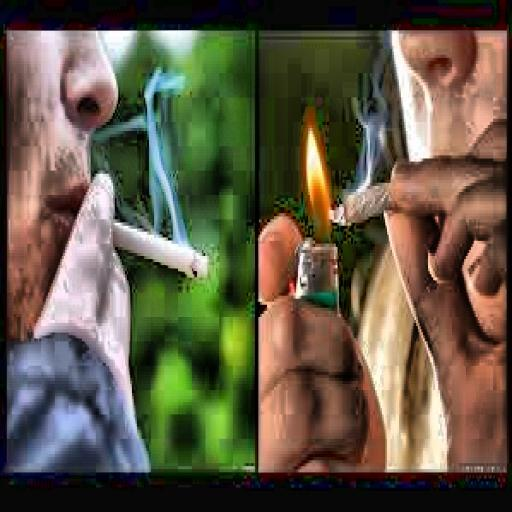fire: (296, 125, 338, 232)
